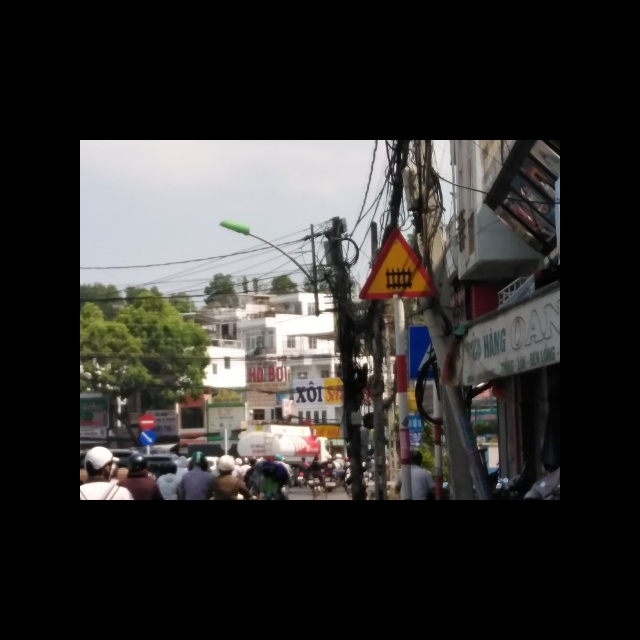Giao nhau với đường sắt có rào chắn: (359, 227, 439, 303)
